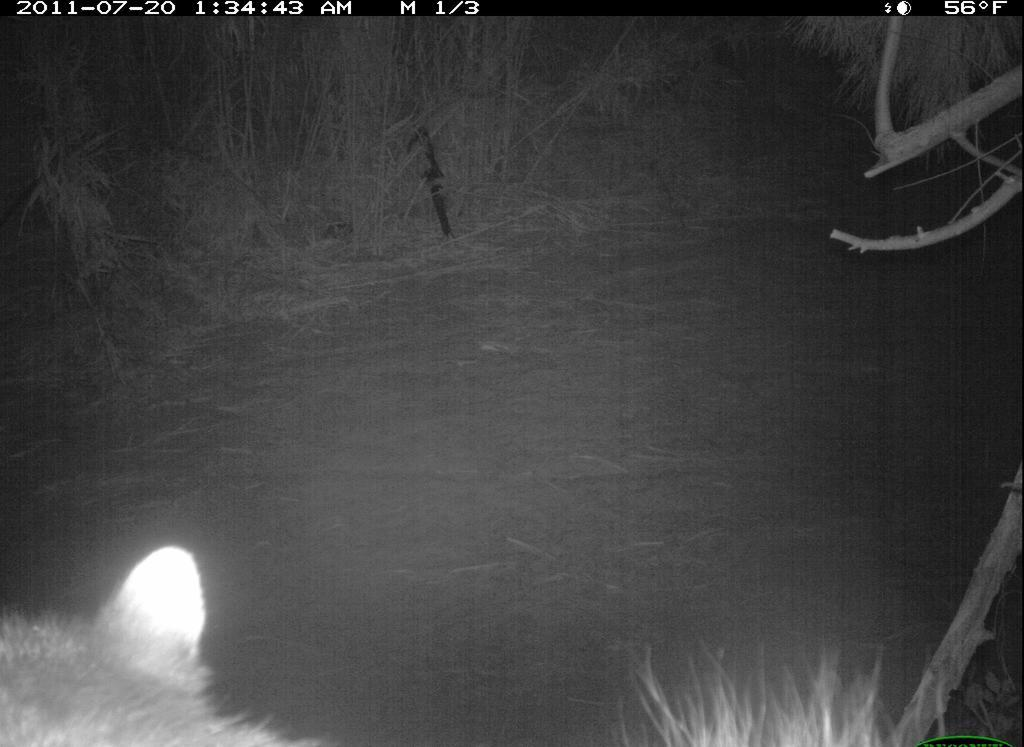raccoon: (10, 529, 925, 747)
